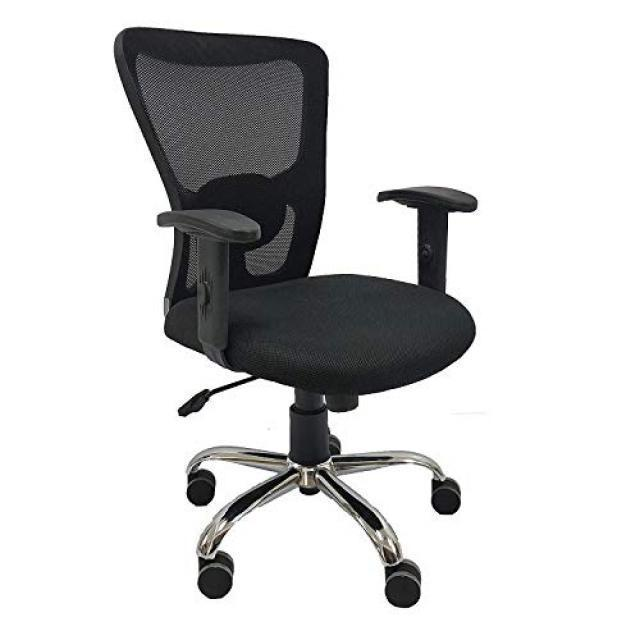chair: (95, 11, 550, 623)
